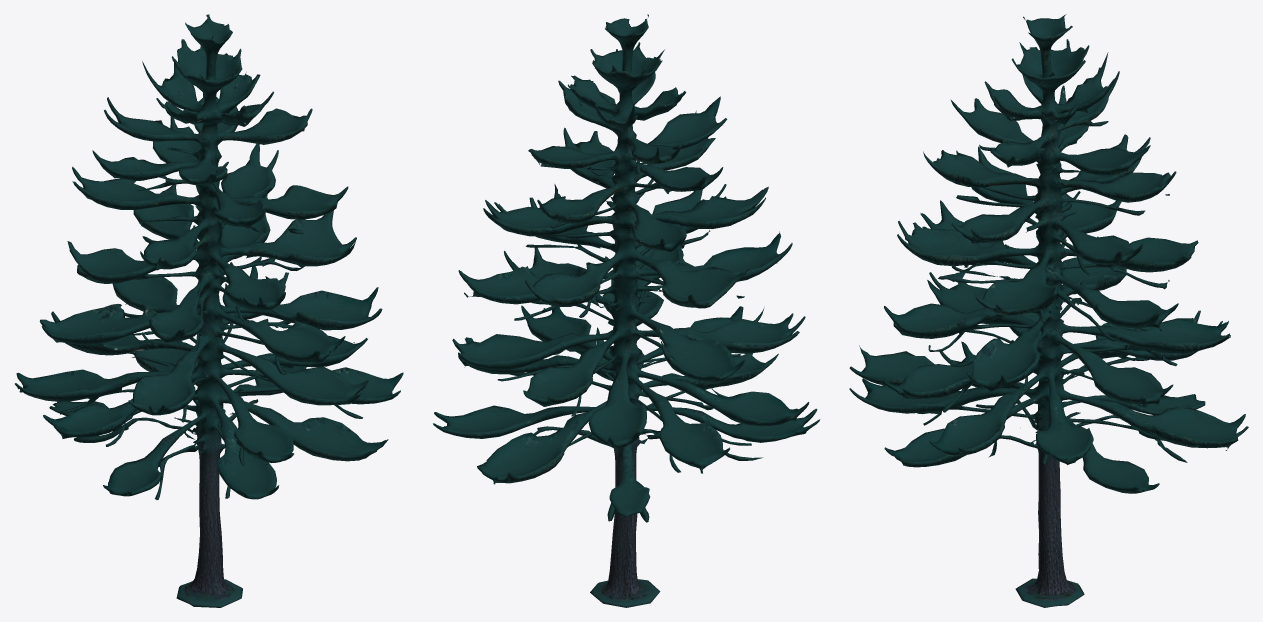
Rendered from woodland_tree_06.glb.
3 renders of one model, left to right at view 1: azimuth 30°, elevation 25°; view 2: azimuth 150°, elevation 25°; view 3: azimuth 270°, elevation 25°, orthographic.
Visible parts, largest first — view 1: tripo_node_cf7cb51b-b9a4-458d-b51c-1fe30627f6f6; view 2: tripo_node_cf7cb51b-b9a4-458d-b51c-1fe30627f6f6; view 3: tripo_node_cf7cb51b-b9a4-458d-b51c-1fe30627f6f6.
Boxes of the visible parts, x1=… form: tripo_node_cf7cb51b-b9a4-458d-b51c-1fe30627f6f6: x1=15, y1=14, x2=403, y2=607; tripo_node_cf7cb51b-b9a4-458d-b51c-1fe30627f6f6: x1=433, y1=14, x2=820, y2=607; tripo_node_cf7cb51b-b9a4-458d-b51c-1fe30627f6f6: x1=849, y1=14, x2=1248, y2=607.
Size of the model in its own units: 0.5709 by 0.9449 by 0.5983.
Materials: 1 (1 with a texture image).
